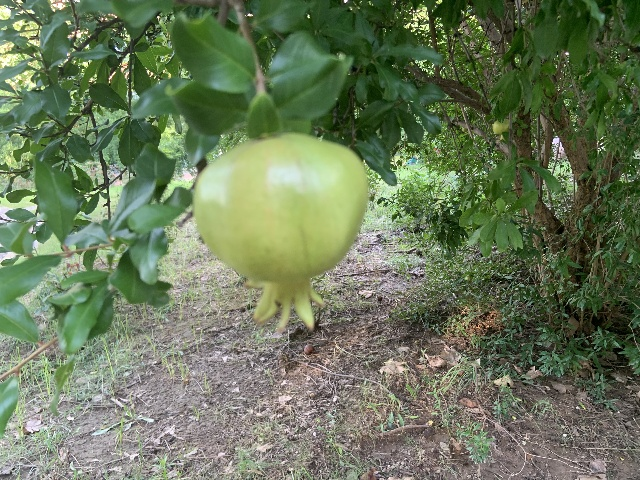mid-growth: (191, 132, 369, 335), (492, 118, 509, 141), (461, 127, 467, 133)
